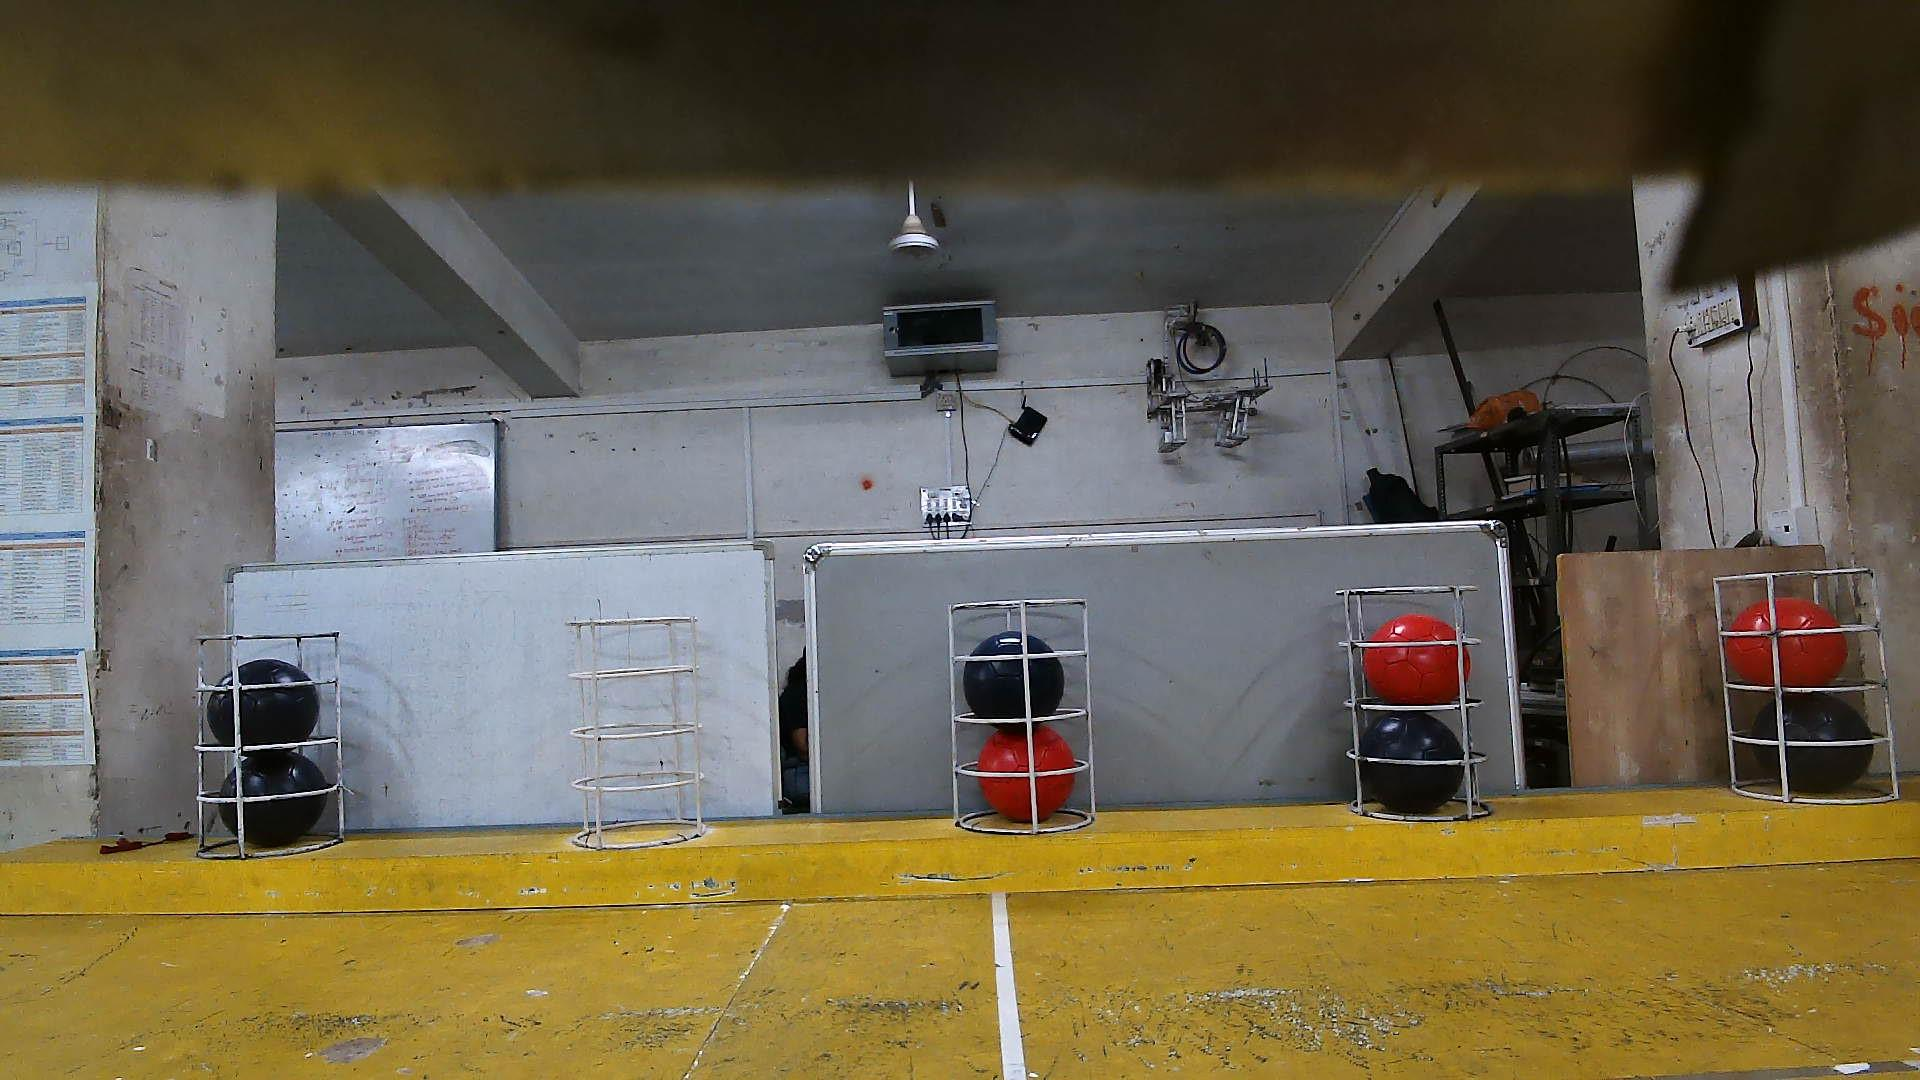dhoka: (1750, 688, 1874, 793), (212, 749, 328, 851), (1364, 712, 1465, 818), (211, 661, 323, 754), (964, 633, 1065, 729)
laale: (1734, 596, 1836, 690), (1364, 615, 1457, 715), (978, 728, 1076, 822)
